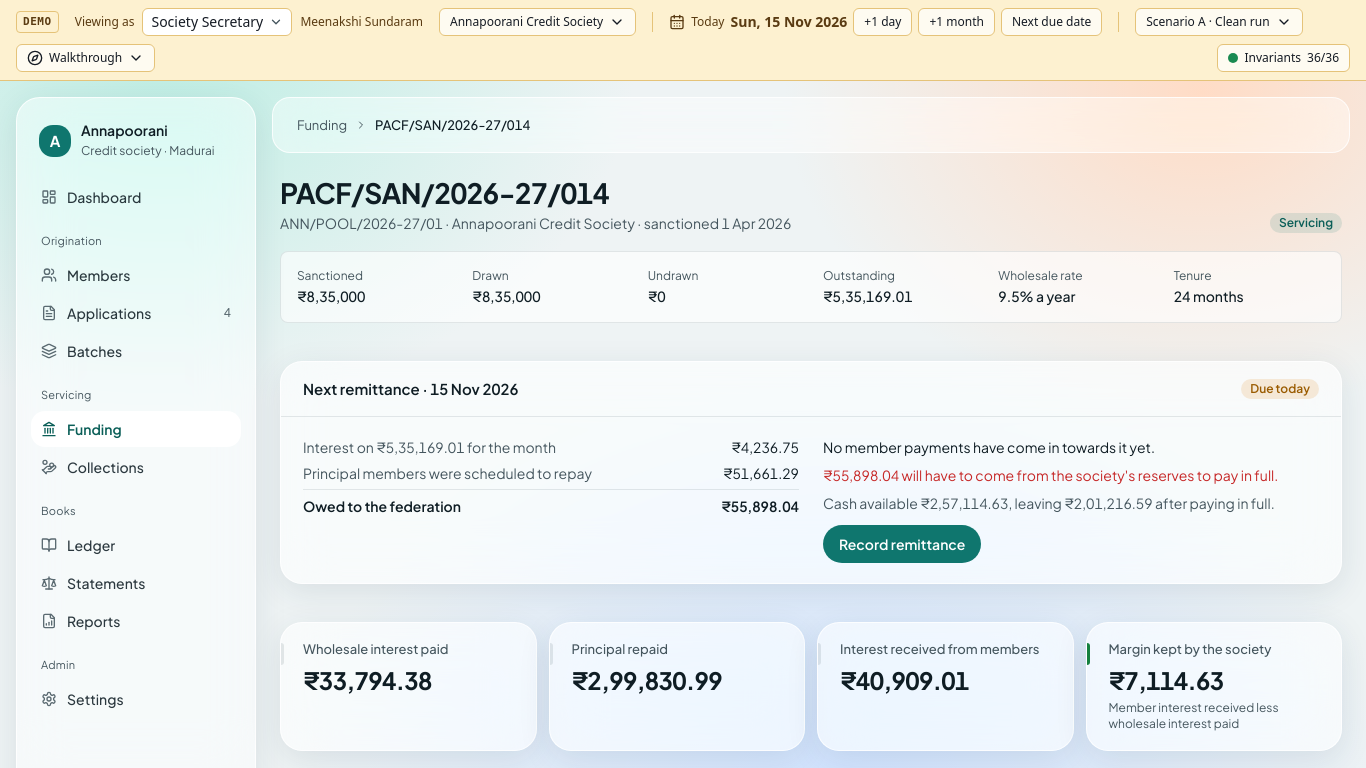
Test case: who may do what › lets only the secretary remit
Select "Auditor" in the dropdown. click: (218, 22)
box: [142,8,292,36]
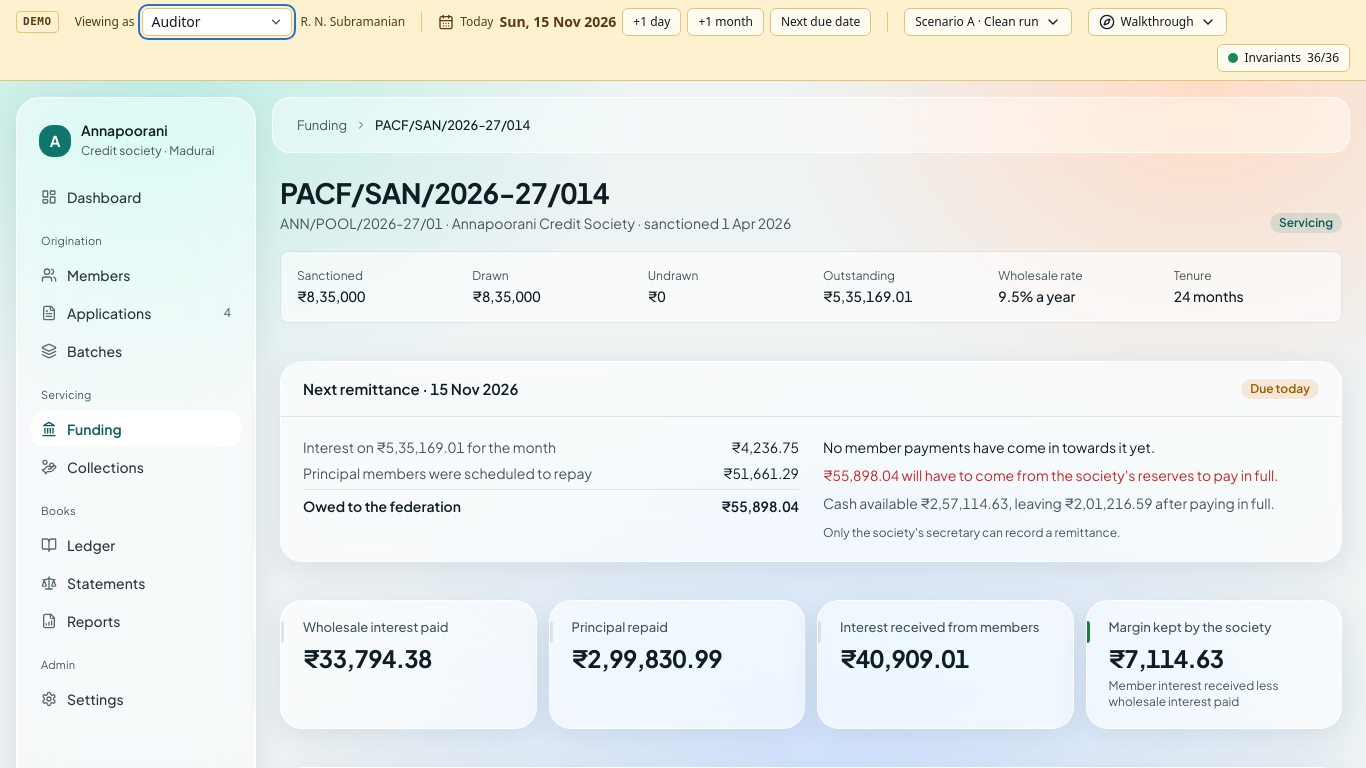
Expected: the text "Only the society's secretary can record a remittance." is shown, [823,525,1120,540]
Expected: the button "Record remittance" is gone
